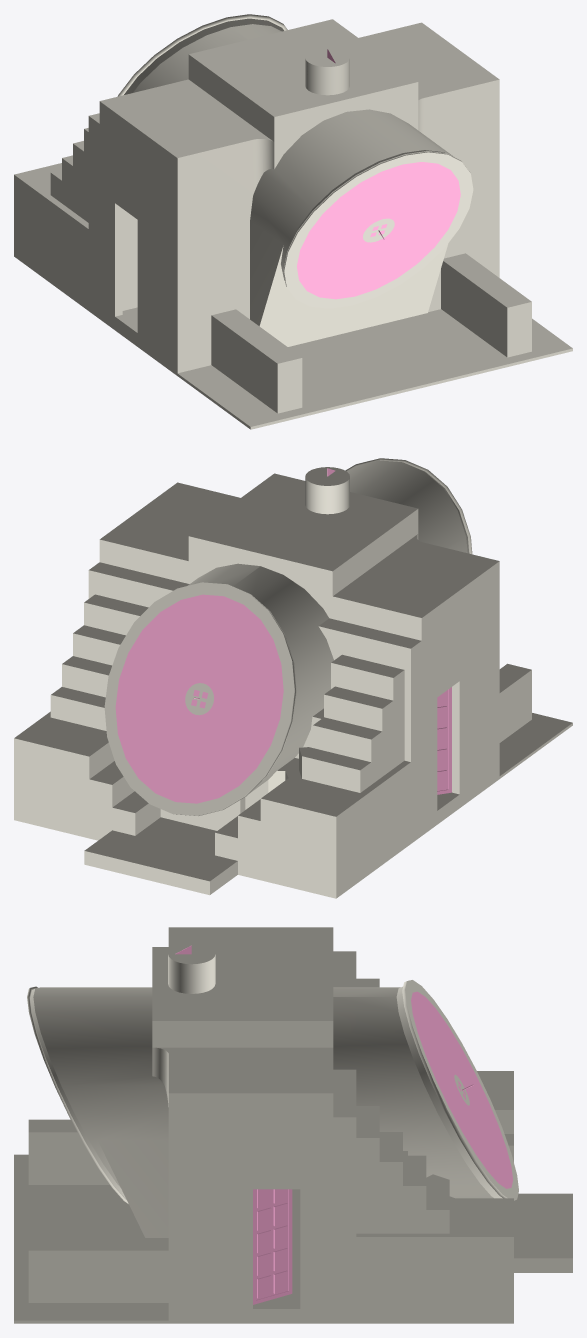
The model's file is astro.glb.
3 renders of one model, top to bottom at view 1: azimuth 30°, elevation 25°; view 2: azimuth 150°, elevation 25°; view 3: azimuth 270°, elevation 25°, orthographic. The views are drawn at different scales.
Visible parts, largest first — view 1: group_0; view 2: group_0, SketchUp, door; view 3: group_0, door, SketchUp.
Boxes of the visible parts, box(x1,y1,x2,y2) form: group_0: box(14, 14, 572, 429); group_0: box(14, 458, 572, 898); SketchUp: box(14, 618, 419, 830); door: box(437, 687, 451, 794); group_0: box(14, 927, 572, 1323); door: box(253, 1189, 292, 1304); SketchUp: box(333, 951, 513, 1236).
Size of the model in its own units: 240 by 199 by 341.
